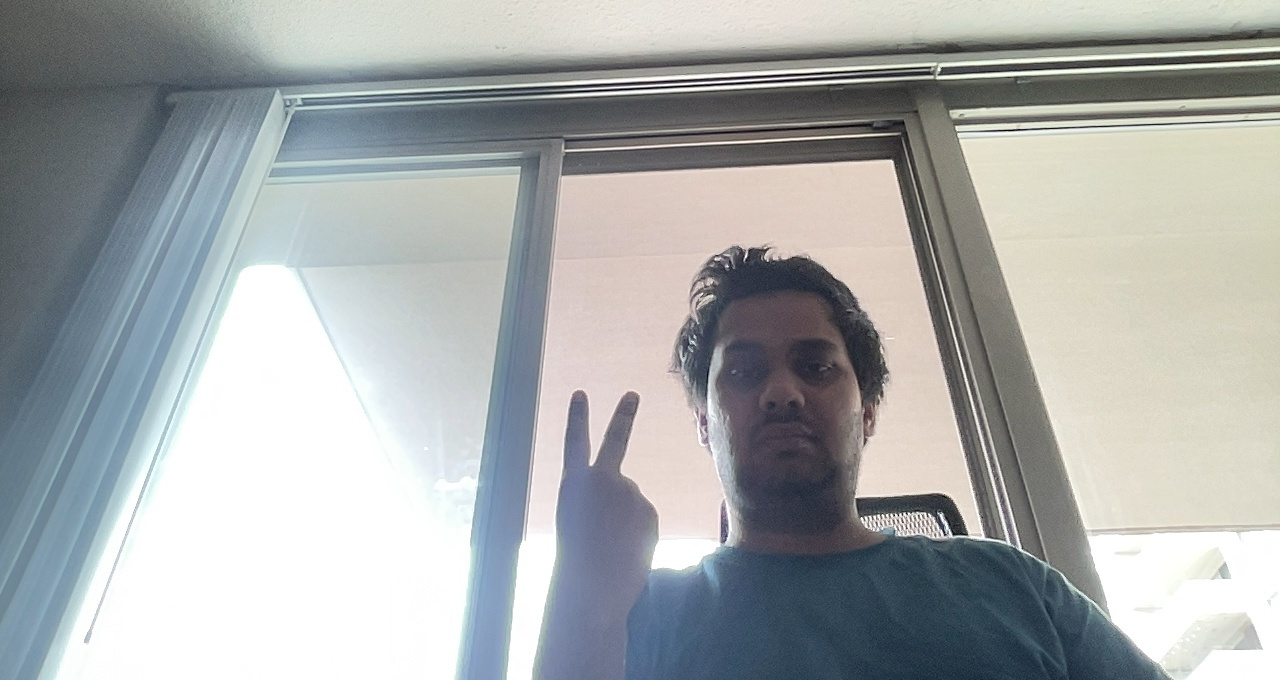peace sign: (555, 378, 670, 601)
